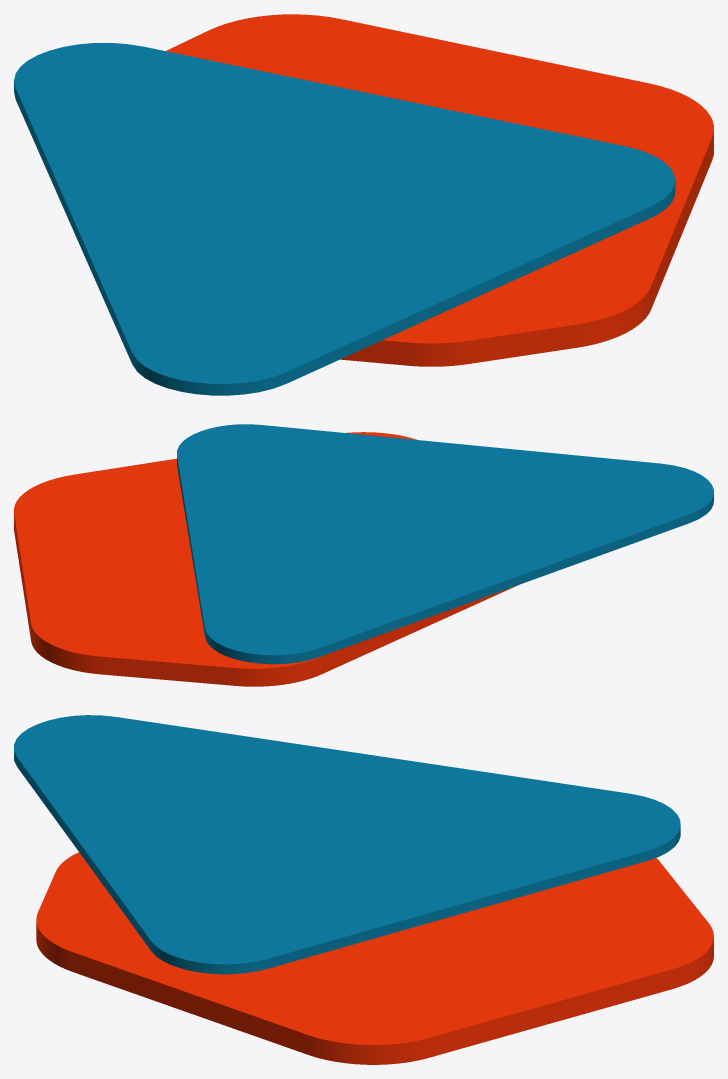
Rendered from Storey.glb.
The picture shows the model from 3 angles, top to bottom: view 1: azimuth 30°, elevation 25°; view 2: azimuth 150°, elevation 25°; view 3: azimuth 270°, elevation 25°; orthographic projection. The views are drawn at different scales.
Parts seen in each view (by area): view 1: Triangle, Hex; view 2: Triangle, Hex; view 3: Triangle, Hex.
Boxes of the visible parts, x1,y1,x2,y2 form: Triangle: [14, 43, 675, 395]; Hex: [166, 14, 713, 366]; Triangle: [177, 424, 713, 664]; Hex: [14, 432, 516, 686]; Triangle: [14, 715, 680, 974]; Hex: [36, 852, 713, 1064].
Size of the model in its own units: 0.1297 by 0.01 by 0.1279.
